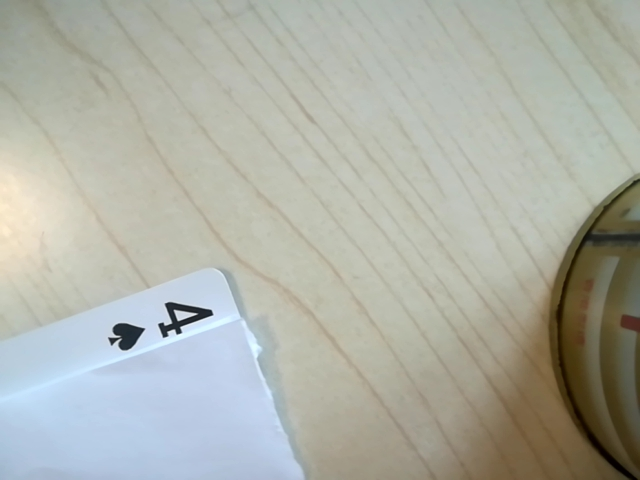ht 4: (88, 292, 237, 364)
